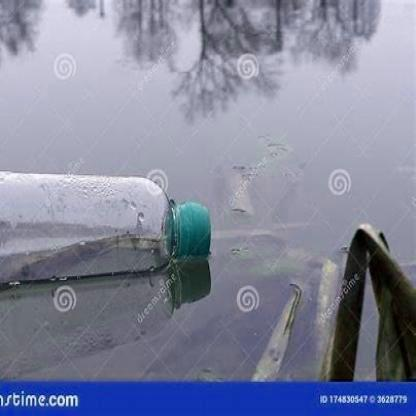Plastic: (0, 169, 215, 285)
